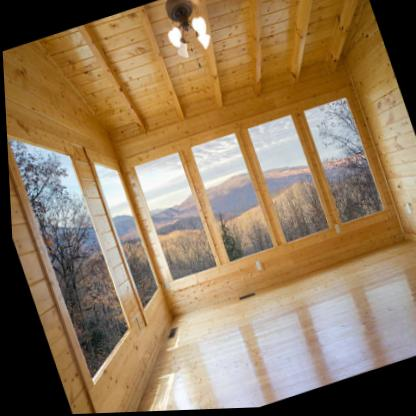Window: (131, 154, 217, 282), (248, 117, 330, 246), (189, 134, 271, 262), (301, 98, 381, 222)
